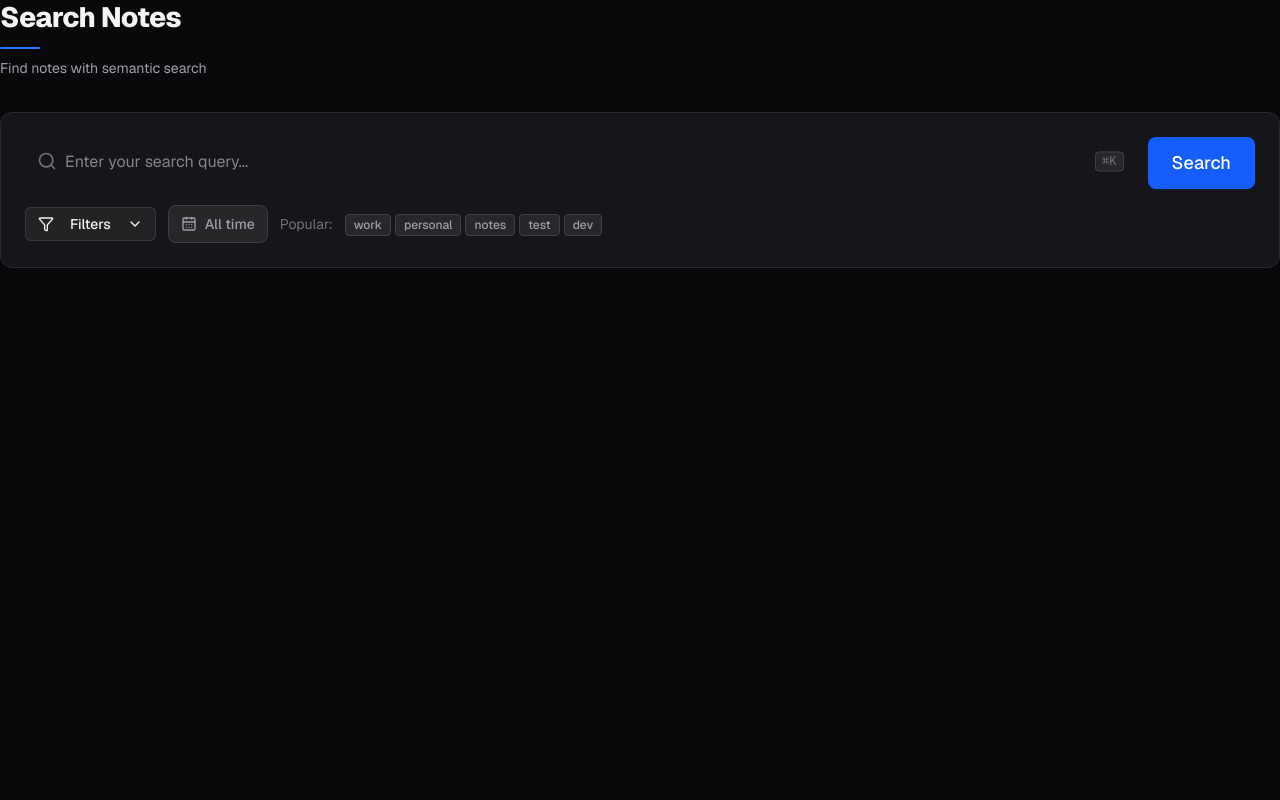
Test case: SearchPage › performs search and displays results
The width and height of the screenshot is (1280, 800).
Type "test query" into the dropdown with placeholder "Enter your search query...".
click(174, 161); type("test query")  # box x1=25 y1=137 x2=323 y2=185
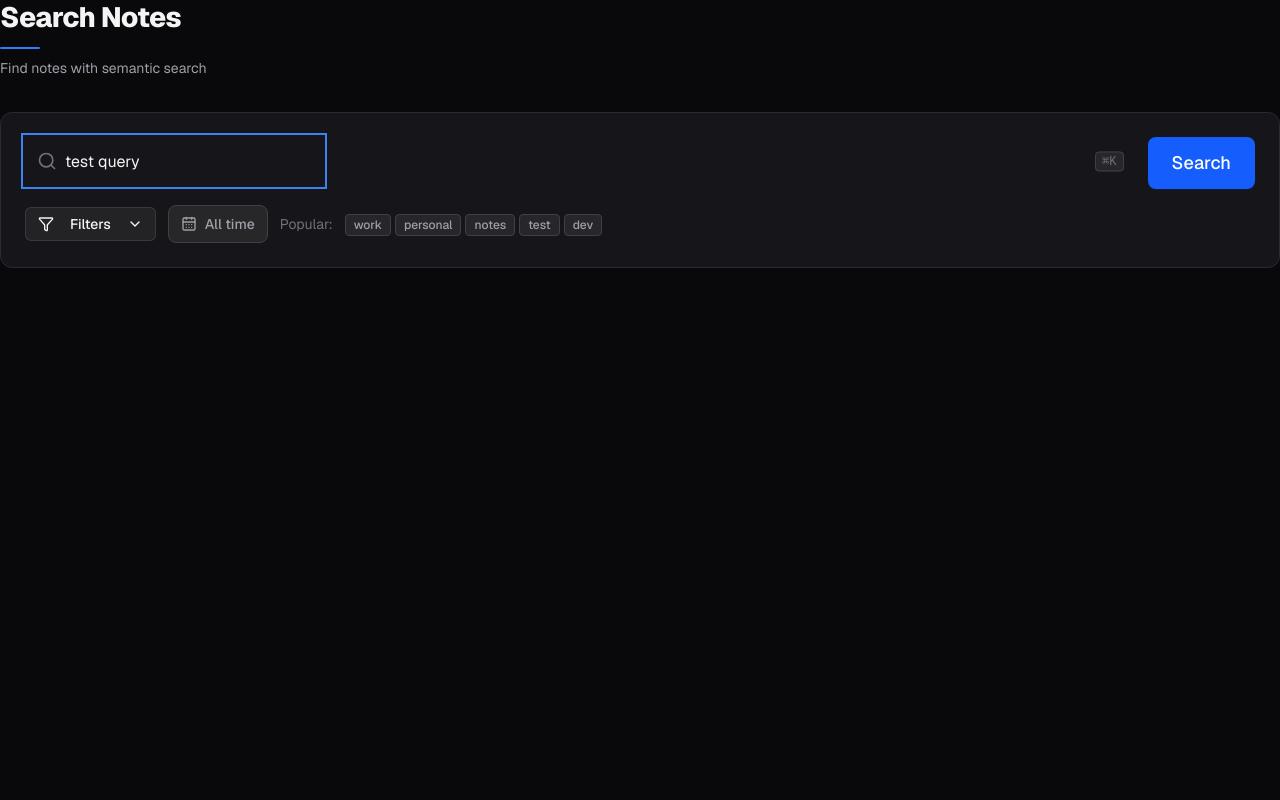
Click the button "Search".
click(1201, 163)  # box x1=1148 y1=137 x2=1255 y2=189
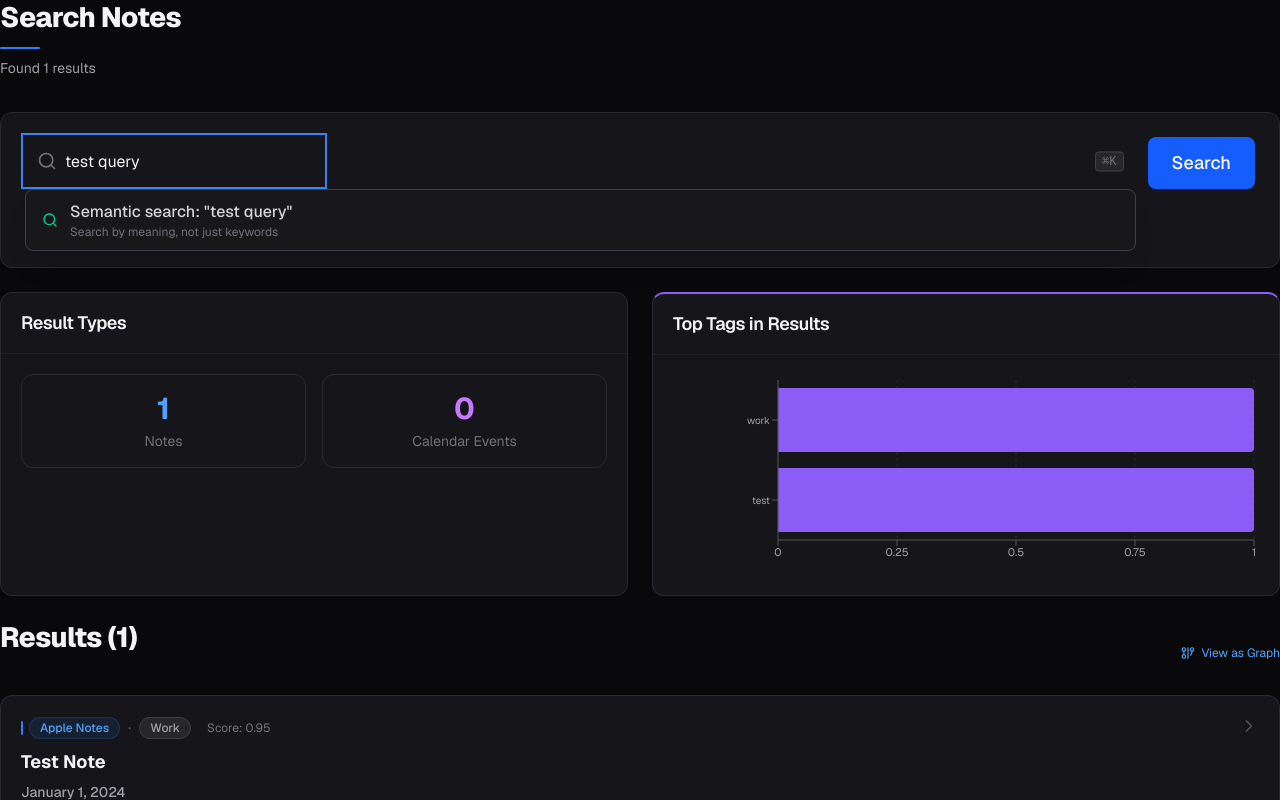
Expected: the text "Test Note" is shown, x1=21 y1=750 x2=106 y2=773
